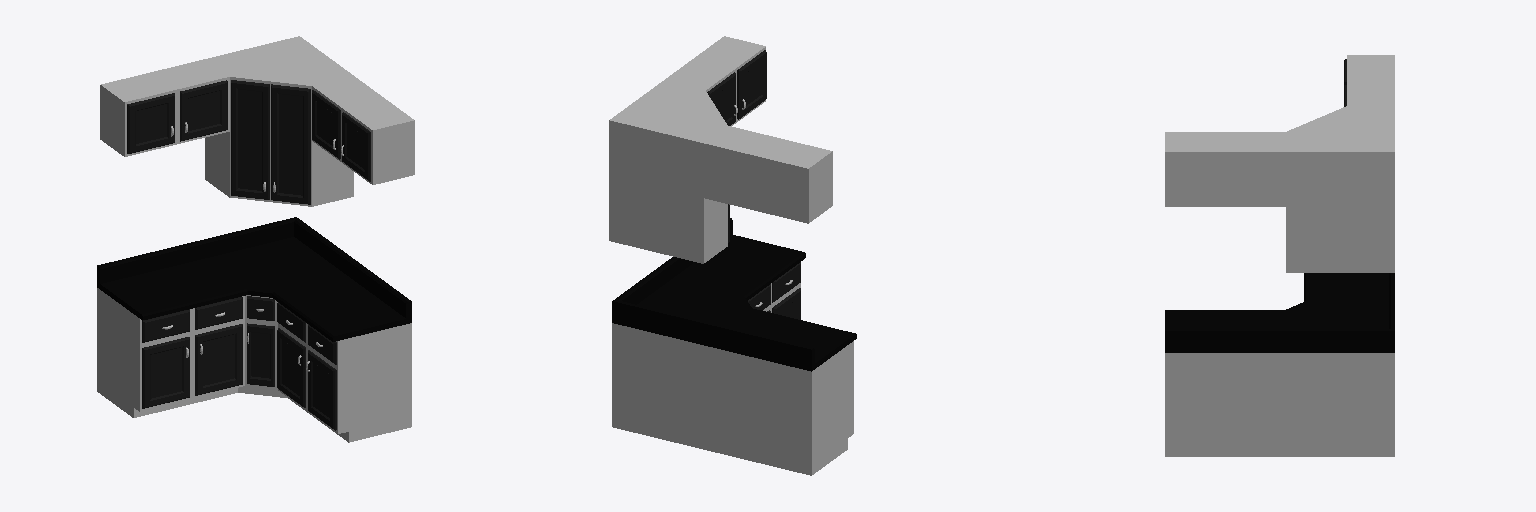
File: Kitchen-Corner-Counters.obj
3 views of the same model, side by side, from view 1: azimuth 30°, elevation 25°; view 2: azimuth 150°, elevation 25°; view 3: azimuth 270°, elevation 25° (orthographic).
Parts seen in each view (by area): view 1: mergedBlocks; view 2: mergedBlocks; view 3: mergedBlocks.
Boxes of the visible parts, <box> form: mergedBlocks: <box>97,36,414,442</box>; mergedBlocks: <box>609,36,856,475</box>; mergedBlocks: <box>1165,55,1394,456</box>.
Size of the model in its own units: 1.93 by 2.79 by 1.9.